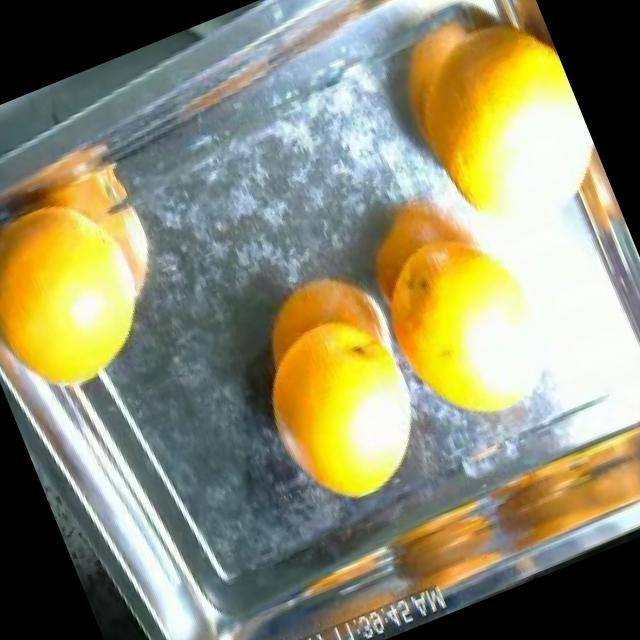Fruit: (223, 287, 452, 539), (542, 124, 636, 264)
